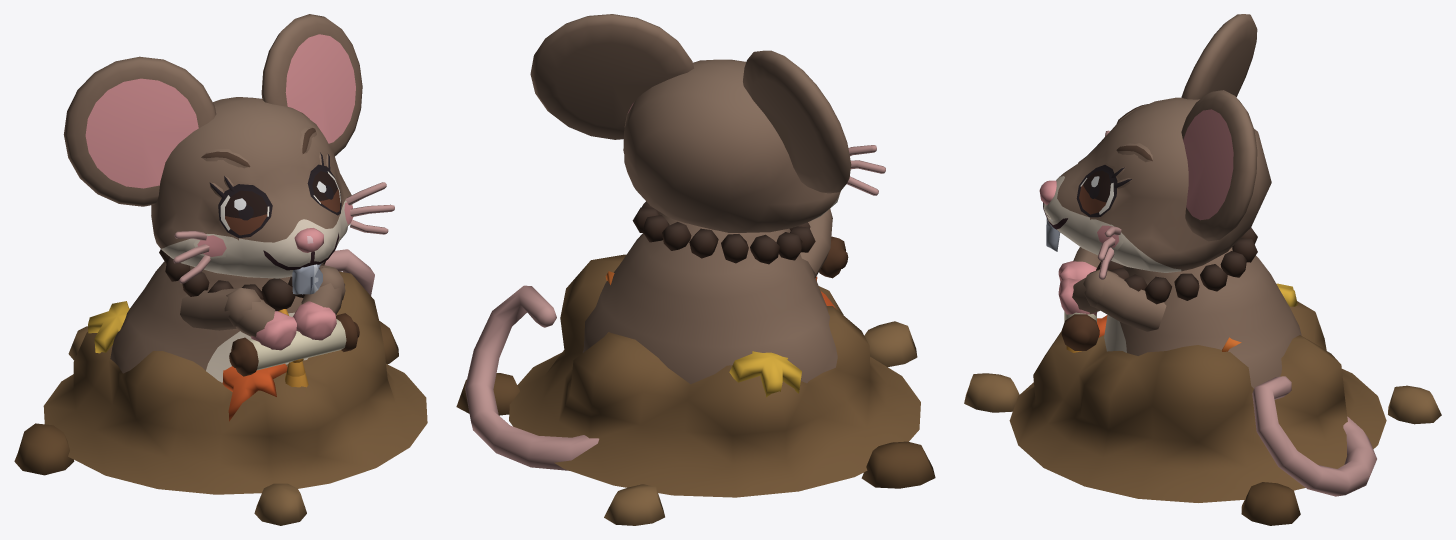
The model's file is tesso_sutra.glb.
3 renders of one model, left to right at view 1: azimuth 30°, elevation 25°; view 2: azimuth 150°, elevation 25°; view 3: azimuth 270°, elevation 25°, orthographic. The views are drawn at different scales.
Parts seen in each view (by area): view 1: head, mound, body, paws; view 2: mound, head, body, paws; view 3: mound, head, body, paws.
Boxes of the visible parts, x1,y1,x2,y2 form: head: [63, 14, 394, 294]; mound: [14, 271, 427, 525]; body: [110, 249, 374, 387]; paws: [224, 267, 359, 376]; mound: [456, 254, 935, 525]; head: [530, 14, 885, 232]; body: [465, 201, 837, 470]; paws: [819, 209, 848, 278]; mound: [964, 283, 1441, 525]; head: [1039, 14, 1271, 279]; body: [1066, 227, 1376, 496]; paws: [1058, 247, 1118, 350].
Size of the model in its own units: 0.9855 by 0.8681 by 1.
